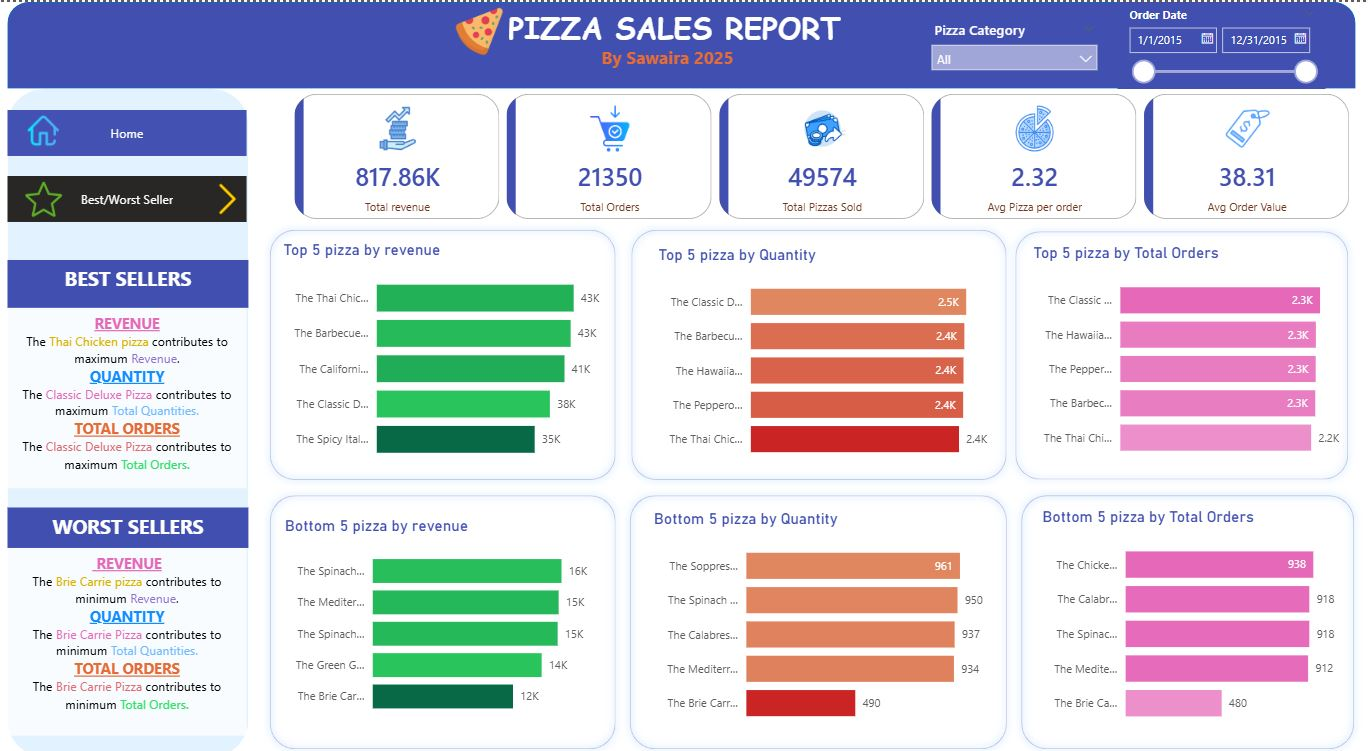

What the dashboard file says about the page in this screenshot:
{"tool":"powerbi","page":{"name":"Best/Worst Seller","canvas":[1500,820],"ordinal":1},"visuals":[{"type":"shape","box":[12,0,1466,94],"z":0},{"type":"textbox","box":[550.7,0,385.9,61.6],"z":1000},{"type":"textbox","box":[652.2,41.7,215.6,52.5],"z":2000},{"type":"image","box":[481.9,0,87,63.4],"z":3000},{"type":"shape","box":[288,240,392,288],"z":4000},{"type":"shape","box":[1100,242,378,286],"z":5000},{"type":"shape","box":[288,528,392,292],"z":6000},{"type":"shape","box":[680,528,426,292],"z":7000},{"type":"shape","box":[1106,528,378,292],"z":8000},{"type":"cardVisual","fields":{"Data":["pizza_sales.Total revenue","pizza_sales.Total Orders","pizza_sales.Total Pizzas Sold","pizza_sales.Avg Pizza per order","pizza_sales.Avg Order Value"]},"box":[318,94,1160,146],"z":9000},{"type":"shape","box":[12,94,262,726],"z":10000},{"type":"textbox","box":[12,280,262,52],"z":11000},{"type":"textbox","box":[12,550,262,44],"z":12000},{"type":"textbox","box":[12,332,260,196],"z":13000},{"type":"textbox","box":[12,594,260,204],"z":14000},{"type":"slicer","fields":{"Values":["pizza_sales.pizza_category"]},"box":[1006,14,200,68],"z":15000},{"type":"slicer","fields":{"Values":["pizza_sales.order_date"]},"box":[1218,0,226,94],"z":16000},{"type":"pageNavigator","box":[12,118,260,50],"z":17000},{"type":"pageNavigator","box":[12,190,260,50],"z":18000},{"type":"image","box":[12,118,78,44],"z":19000},{"type":"image","box":[228,190,44,50],"z":20000},{"type":"image","box":[12,190,78,50],"z":21000},{"type":"shape","box":[682,240,424,288],"z":22000},{"type":"barChart","title":"Top 5 pizza by revenue","fields":{"Category":["pizza_sales.pizza_name"],"Y":["pizza_sales.Total revenue"]},"box":[306,260,374,252],"z":23000},{"type":"barChart","title":"Bottom 5 pizza by revenue","fields":{"Category":["pizza_sales.pizza_name"],"Y":["pizza_sales.Total revenue"]},"box":[308,560,350,228],"z":24000},{"type":"barChart","title":"Bottom 5 pizza by Quantity","fields":{"Category":["pizza_sales.pizza_name"],"Y":["Sum(pizza_sales.quantity)"]},"box":[710,552,368,246],"z":25000},{"type":"barChart","title":"Top 5 pizza by Quantity","fields":{"Category":["pizza_sales.pizza_name"],"Y":["Sum(pizza_sales.quantity)"]},"box":[714,264,368,246],"z":26000},{"type":"barChart","title":"Bottom 5 pizza by Total Orders","fields":{"Category":["pizza_sales.pizza_name"],"Y":["pizza_sales.Total Orders"]},"box":[1132,550,330,248],"z":27000},{"type":"barChart","title":"Top 5 pizza by Total Orders","fields":{"Category":["pizza_sales.pizza_name"],"Y":["pizza_sales.Total Orders"]},"box":[1122,262,346,246],"z":28000}]}

Visuals, with their boxes in screenshot pixels (x1, y1, x2, y2), scaled from the page's 1500x820 canvas onto the 1368x751 screenshot:
shape: (11,0,1348,86)
textbox: (502,0,854,56)
textbox: (595,38,791,86)
image: (439,0,519,58)
shape: (263,220,620,484)
shape: (1003,222,1348,484)
shape: (263,484,620,750)
shape: (620,484,1009,750)
shape: (1009,484,1353,750)
cardVisual - pizza_sales.Total revenue x pizza_sales.Total Orders: (290,86,1348,220)
shape: (11,86,250,750)
textbox: (11,256,250,304)
textbox: (11,504,250,544)
textbox: (11,304,248,484)
textbox: (11,544,248,731)
slicer - pizza_sales.pizza_category: (917,13,1100,75)
slicer - pizza_sales.order_date: (1111,0,1317,86)
pageNavigator: (11,108,248,154)
pageNavigator: (11,174,248,220)
image: (11,108,82,148)
image: (208,174,248,220)
image: (11,174,82,220)
shape: (622,220,1009,484)
"Top 5 pizza by revenue" barChart: (279,238,620,469)
"Bottom 5 pizza by revenue" barChart: (281,513,600,722)
"Bottom 5 pizza by Quantity" barChart: (648,506,983,731)
"Top 5 pizza by Quantity" barChart: (651,242,987,467)
"Bottom 5 pizza by Total Orders" barChart: (1032,504,1333,731)
"Top 5 pizza by Total Orders" barChart: (1023,240,1339,465)
